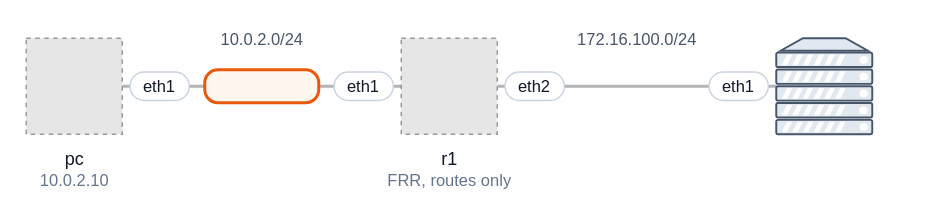
Image size: 950x221. Some labels were removed from this diagram. Grey dashed boxes stand in for pictures. Each missing label, with the centre of its shape:
"capture" belongs at point 261,86.
"srv 172.16.100.80, web + DNS" belongs at point 823,85.
